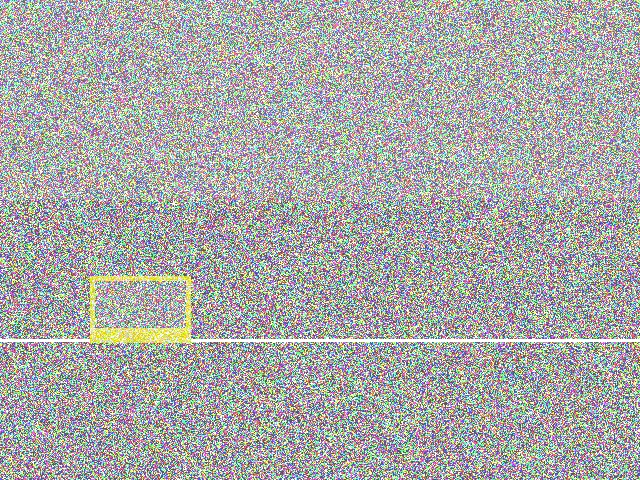bus: (38, 214, 206, 268)
car: (177, 279, 351, 382)
